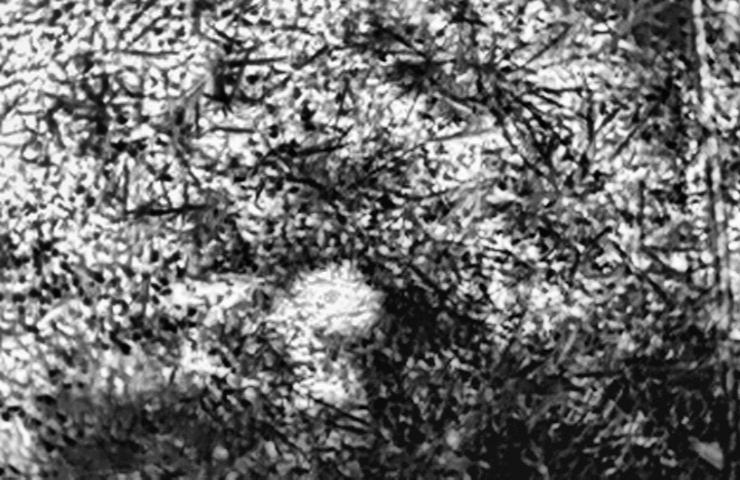landmines: (284, 258, 389, 338)
